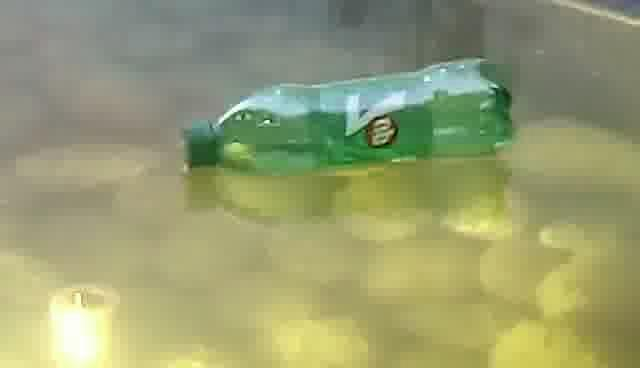Plastic: (171, 50, 526, 176)
